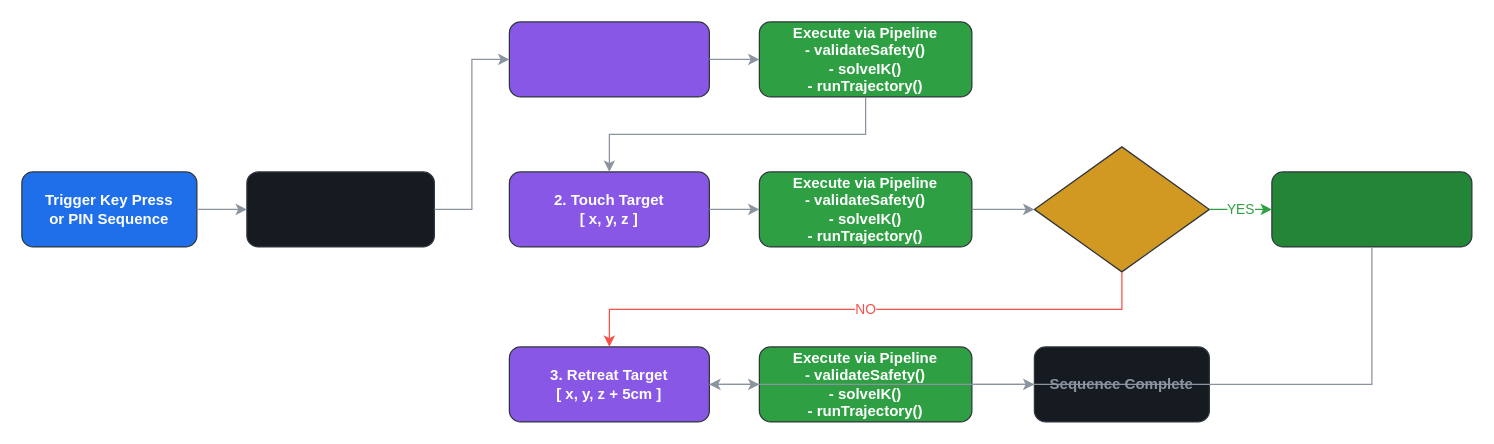
The diagram is 1494 pixels wide and 444 high, and some of its shapes have lost their labels. The centre of each missing label's shape, as x and y in pixels:
1. Approach Target [ x, y, z + 5cm ]: [608,59]
Distance Check Error <= 5mm?: [1121,209]
Flash Proximity Key & Log Success Status: [1371,209]
Retrieve Coordinates from key.config.json: [340,209]
